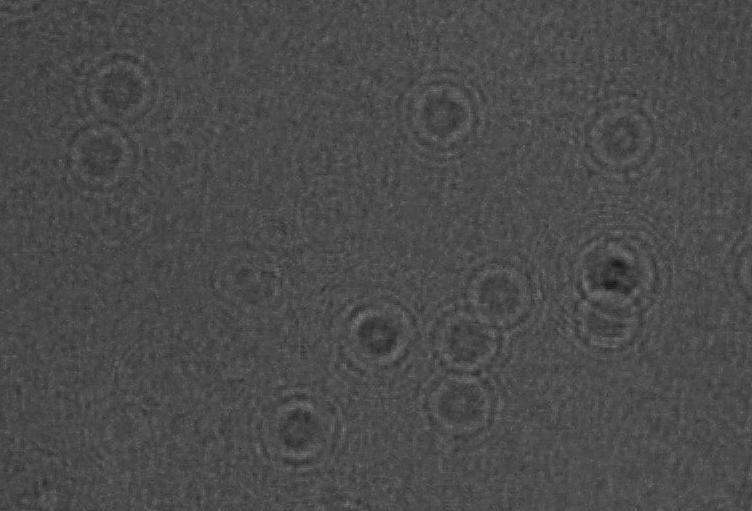bead: (555, 91, 683, 182), (323, 287, 425, 382), (388, 67, 491, 160), (250, 382, 348, 477), (62, 49, 168, 131), (51, 120, 150, 200), (450, 247, 549, 327), (563, 284, 657, 368), (418, 307, 520, 379), (418, 369, 511, 442), (711, 223, 752, 319)
